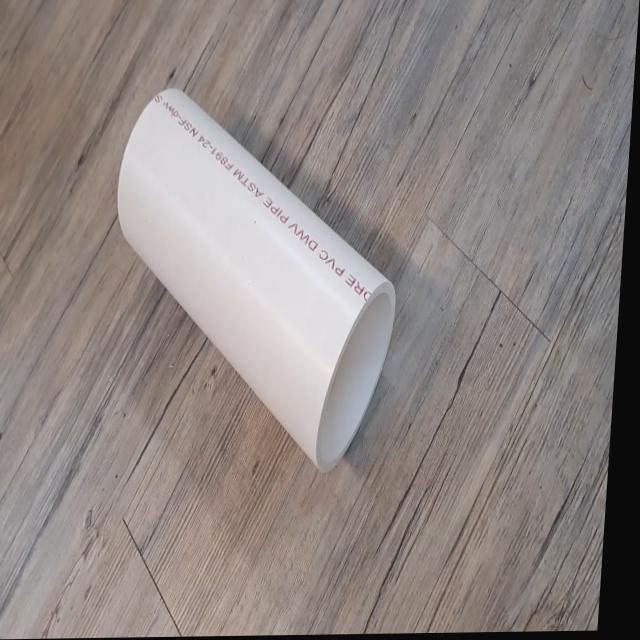CORAL: (93, 74, 415, 480)
